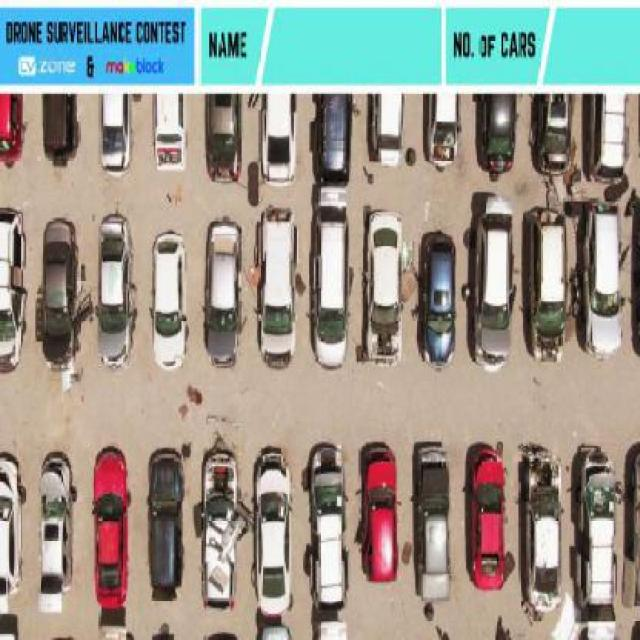car: (459, 439, 513, 591), (470, 195, 516, 372), (312, 184, 355, 368), (90, 441, 136, 605), (309, 438, 352, 612), (252, 450, 296, 620), (253, 204, 299, 366), (574, 447, 617, 617), (521, 450, 565, 616), (528, 201, 571, 366), (198, 444, 240, 611), (199, 216, 245, 368), (360, 209, 404, 367), (353, 436, 401, 580), (582, 198, 624, 362), (97, 212, 140, 371), (143, 444, 186, 598), (412, 437, 452, 602), (38, 215, 80, 372), (149, 230, 193, 364), (36, 449, 76, 596), (421, 228, 458, 364), (0, 207, 26, 377), (313, 94, 357, 185), (590, 93, 632, 185), (202, 93, 242, 183), (261, 92, 299, 186), (534, 95, 576, 179), (477, 96, 518, 178), (0, 448, 22, 592), (150, 90, 187, 172), (100, 95, 136, 179), (366, 95, 404, 173), (424, 91, 462, 167), (43, 96, 81, 168), (626, 442, 640, 584), (0, 90, 27, 160), (631, 195, 640, 358), (311, 615, 349, 640), (100, 615, 134, 640), (256, 623, 295, 640), (0, 612, 20, 640), (147, 623, 177, 640), (198, 629, 240, 640)
